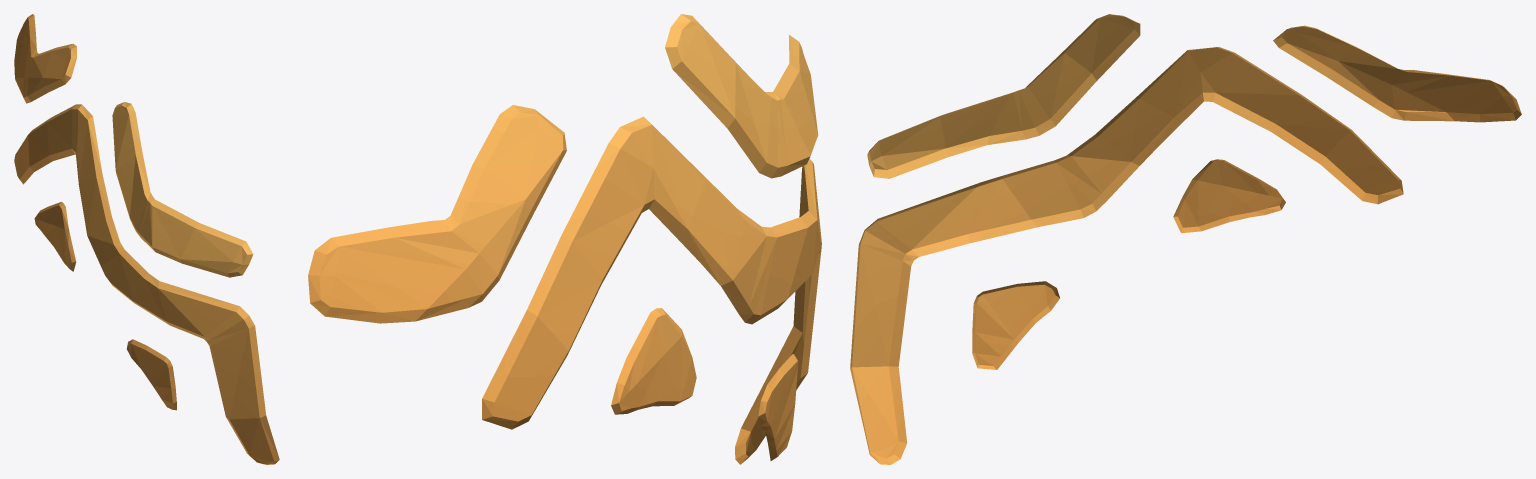
Rendered from CharSkyKid_Horn_AP25YellowPaint.glb.
3 views of the same model, side by side, from view 1: azimuth 30°, elevation 25°; view 2: azimuth 150°, elevation 25°; view 3: azimuth 270°, elevation 25° (orthographic). The views are drawn at different scales.
Visible parts, largest first — view 1: CharSkyKid_Horn_AP25YellowPaint; view 2: CharSkyKid_Horn_AP25YellowPaint; view 3: CharSkyKid_Horn_AP25YellowPaint.
Boxes of the visible parts, x1,y1,x2,y2 form: CharSkyKid_Horn_AP25YellowPaint: [14, 14, 279, 464]; CharSkyKid_Horn_AP25YellowPaint: [308, 14, 821, 464]; CharSkyKid_Horn_AP25YellowPaint: [850, 14, 1521, 464].
Size of the model in its own units: 0.3554 by 1.13 by 1.65.
Materials: 1 (1 with a texture image).
